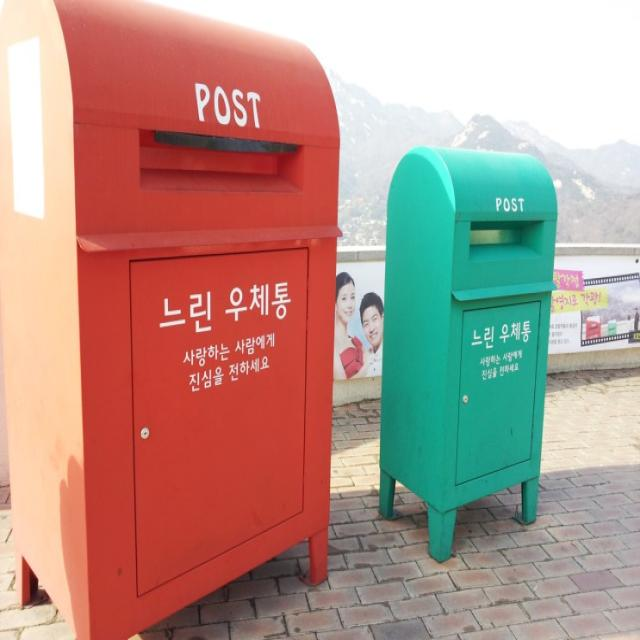Post Box: (0, 0, 342, 640), (378, 137, 560, 567)
